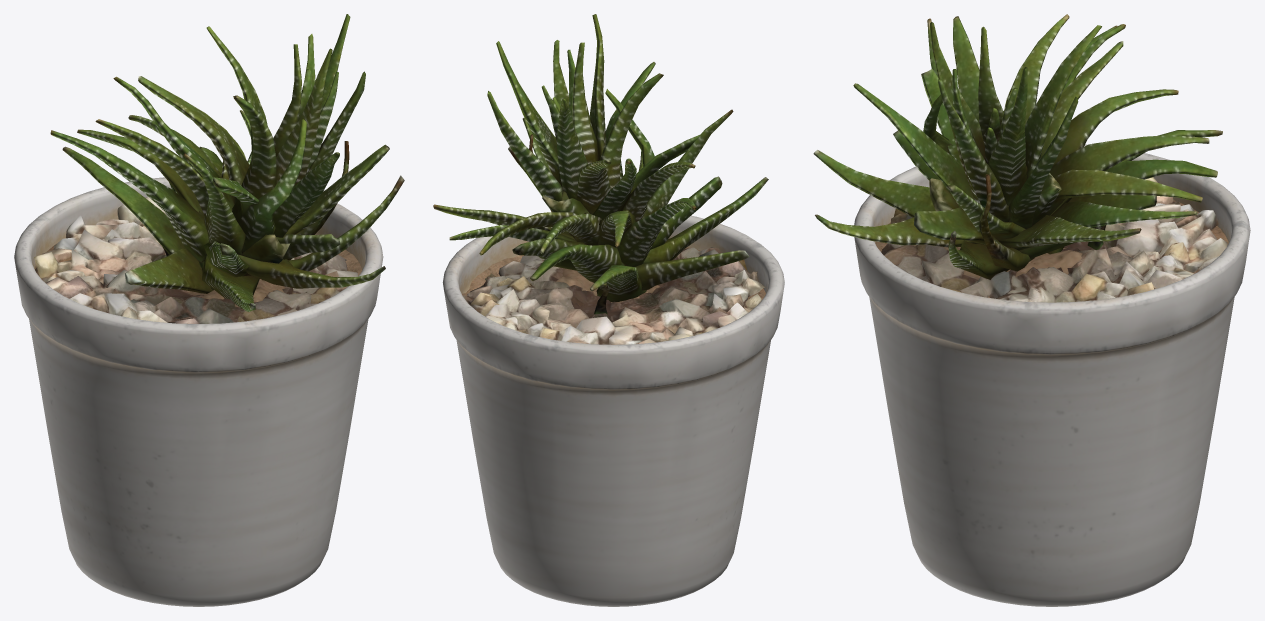
Rendered from potted_plant_04.glb.
3 renders of one model, left to right at view 1: azimuth 30°, elevation 25°; view 2: azimuth 150°, elevation 25°; view 3: azimuth 270°, elevation 25°, orthographic. The views are drawn at different scales.
Parts seen in each view (by area): view 1: potted_plant_04_ground; view 2: potted_plant_04_ground; view 3: potted_plant_04_ground.
Boxes of the visible parts, x1,y1,x2,y2 form: potted_plant_04_ground: (14, 14, 404, 606); potted_plant_04_ground: (433, 14, 784, 606); potted_plant_04_ground: (813, 14, 1250, 606).
Size of the model in its own units: 0.1679 by 0.2675 by 0.1847.
1 material, 1 textured.
